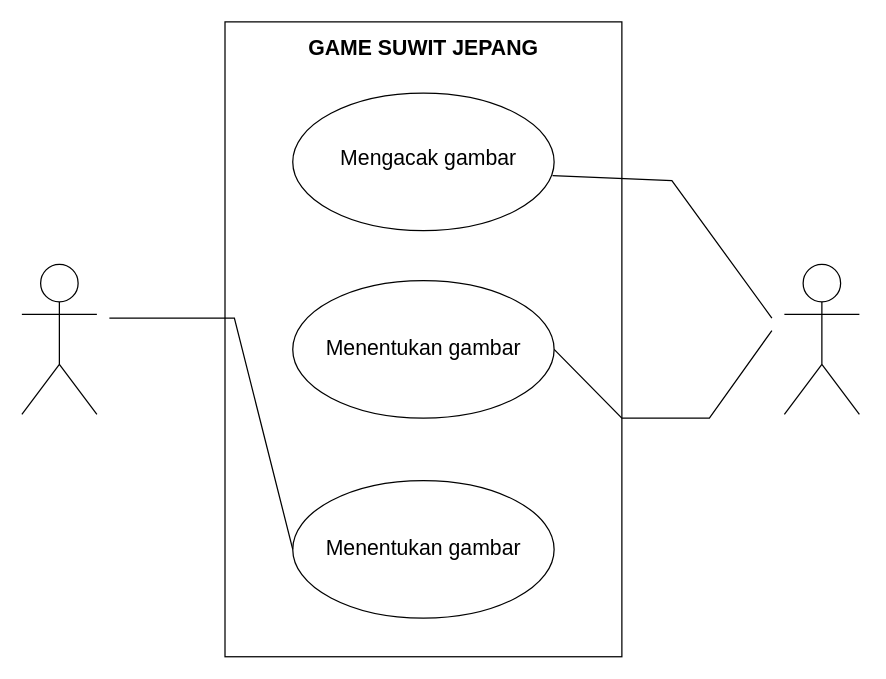
The diagram is 886 pixels wide and 679 high, and some of its shapes have lost their labels. The shapes that lost their labels are listed below. From the top down, each one's centre as x and y in pixels, then its label:
point 59,338: PLAYER
point 821,338: COMPUTER
